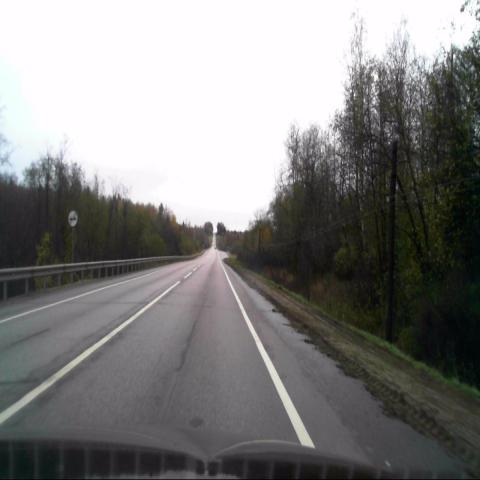3_21: (68, 210, 77, 227)
